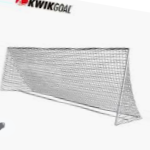goals: (1, 43, 144, 126)
